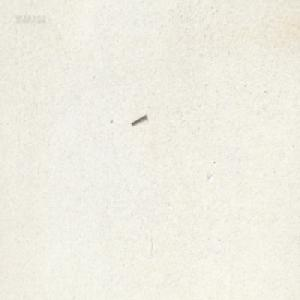Bolt: (130, 112, 146, 125)
